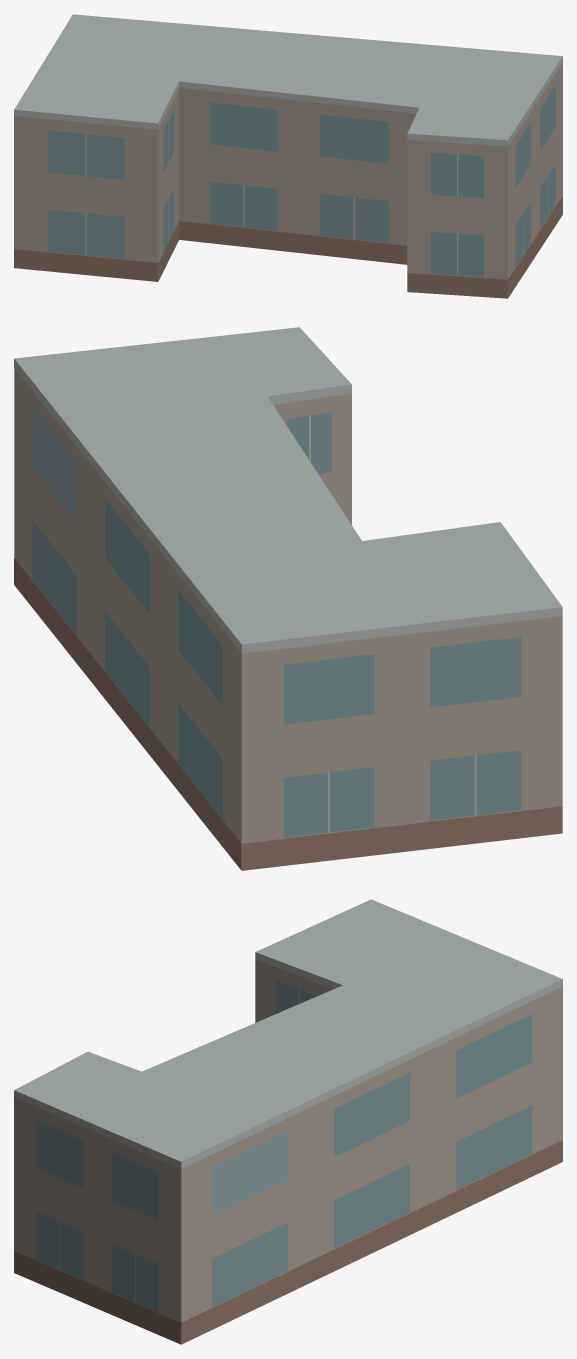
Rendered from survey-upis-33018134.glb.
3 renders of one model, top to bottom at view 1: azimuth 30°, elevation 25°; view 2: azimuth 150°, elevation 25°; view 3: azimuth 270°, elevation 25°, orthographic. The views are drawn at different scales.
Parts seen in each view (by area): view 1: survey-upis-33018134.tmp; view 2: survey-upis-33018134.tmp; view 3: survey-upis-33018134.tmp.
Part boxes in pixels (x1=…): survey-upis-33018134.tmp: x1=14, y1=14, x2=562, y2=298; survey-upis-33018134.tmp: x1=14, y1=327, x2=562, y2=870; survey-upis-33018134.tmp: x1=14, y1=899, x2=562, y2=1344.
Size of the model in its own units: 18.8 by 6.1 by 16.61.
